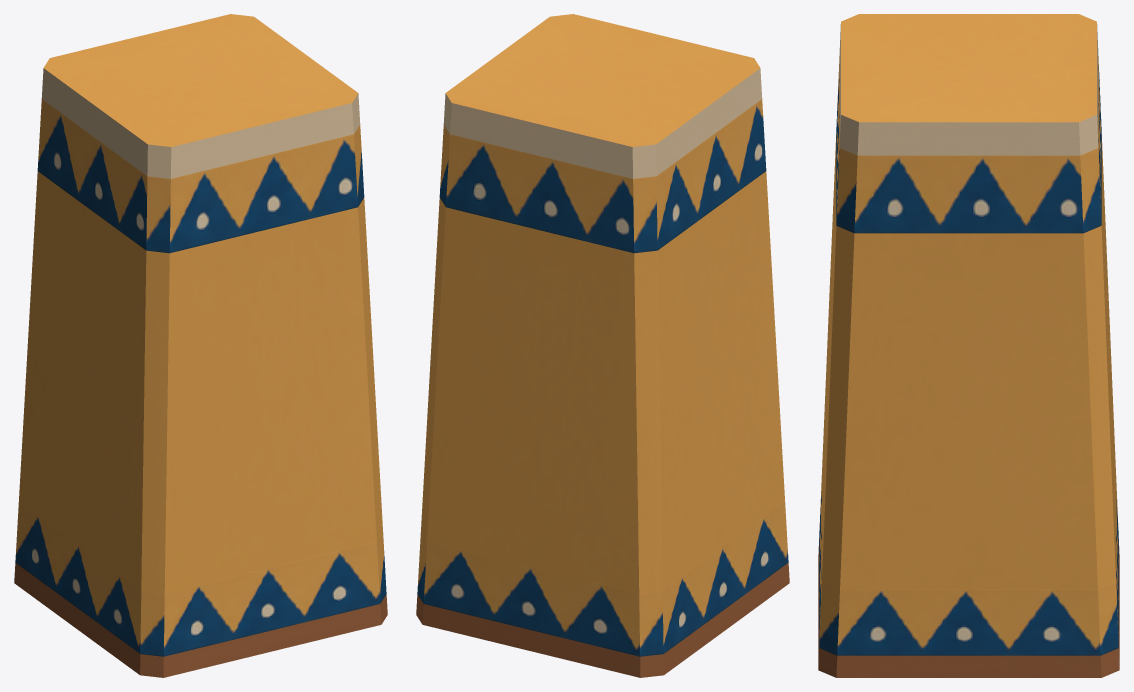
File: rc_wa_wall_endpier_4m.glb
3 views of the same model, side by side, from view 1: azimuth 30°, elevation 25°; view 2: azimuth 150°, elevation 25°; view 3: azimuth 270°, elevation 25° (orthographic). The views are drawn at different scales.
Parts seen in each view (by area): view 1: SM_RC_WA_Wall_EndPier_4m; view 2: SM_RC_WA_Wall_EndPier_4m; view 3: SM_RC_WA_Wall_EndPier_4m.
Boxes of the visible parts, <box> form: SM_RC_WA_Wall_EndPier_4m: <box>14,14,387,677</box>; SM_RC_WA_Wall_EndPier_4m: <box>416,14,789,677</box>; SM_RC_WA_Wall_EndPier_4m: <box>818,14,1119,677</box>.
Size of the model in its own units: 2 by 4 by 2.
1 material, 1 textured.
